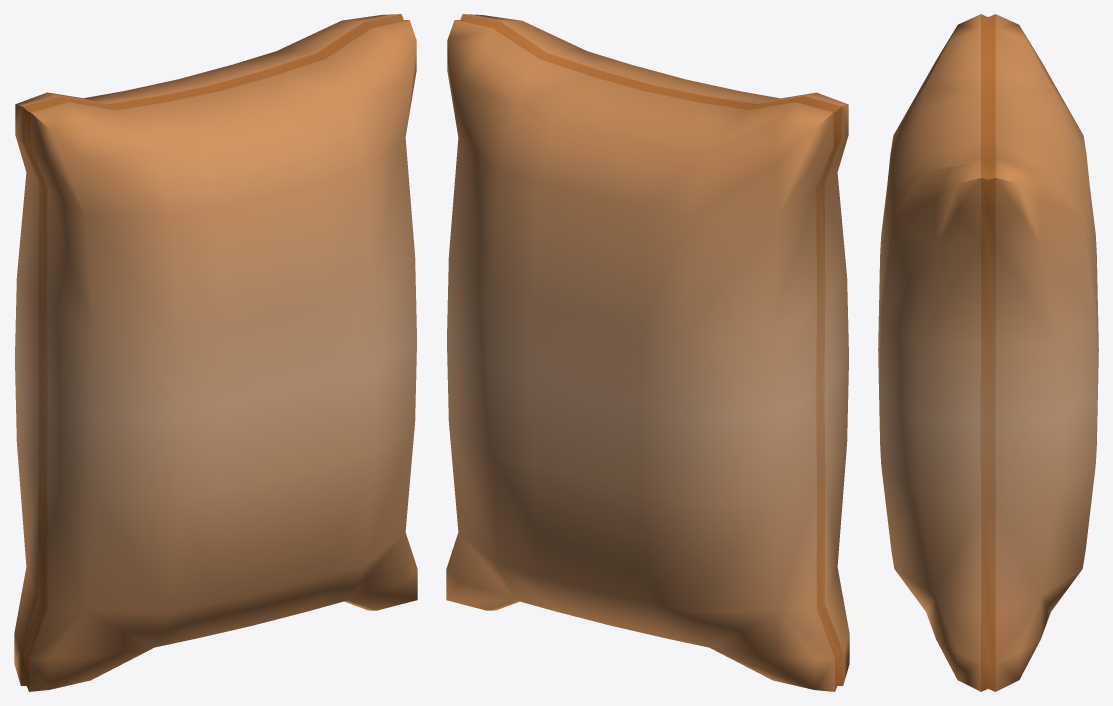
Rendered from Sacks--1-1.fbx.
The picture shows the model from 3 angles, left to right: view 1: azimuth 30°, elevation 25°; view 2: azimuth 150°, elevation 25°; view 3: azimuth 270°, elevation 25°; orthographic projection. The views are drawn at different scales.
Visible parts, largest first — view 1: Sacks--1-1; view 2: Sacks--1-1; view 3: Sacks--1-1.
Part boxes in pixels (bbox=[...]): Sacks--1-1: bbox=[14, 14, 417, 691]; Sacks--1-1: bbox=[446, 14, 849, 691]; Sacks--1-1: bbox=[878, 14, 1098, 691].
Size of the model in its own units: 98.25 by 143 by 55.44.
